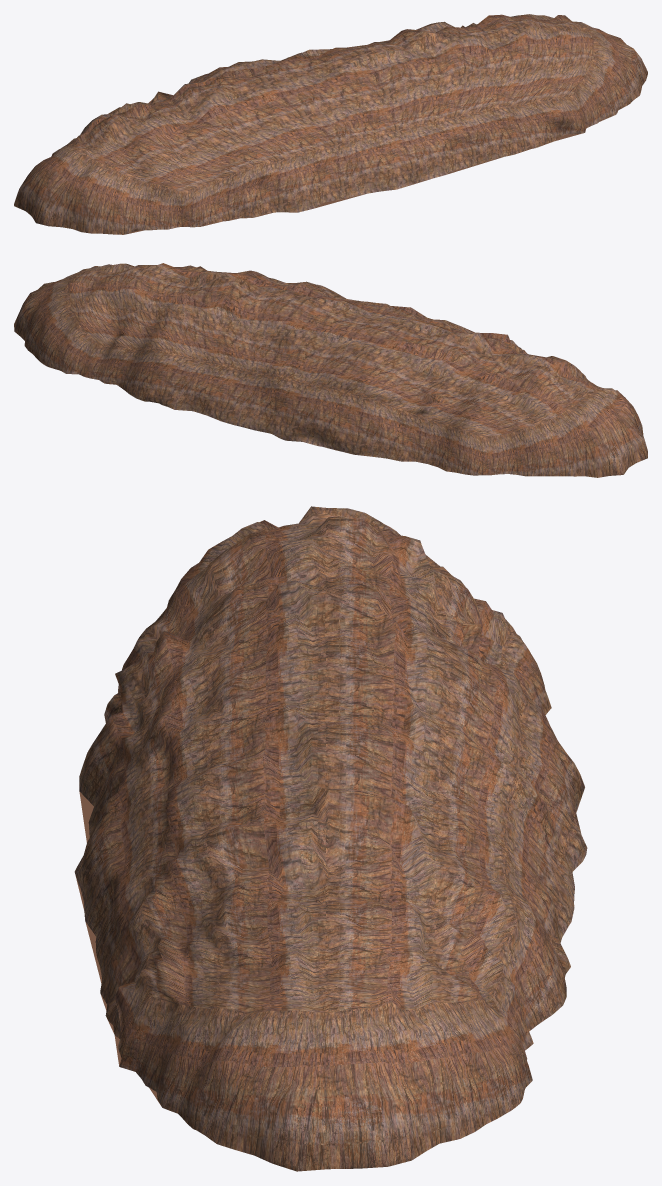
Rendered from mountain5.fbx.
3 renders of one model, top to bottom at view 1: azimuth 30°, elevation 25°; view 2: azimuth 150°, elevation 25°; view 3: azimuth 270°, elevation 25°, orthographic. The views are drawn at different scales.
Parts seen in each view (by area): view 1: mountain; view 2: mountain; view 3: mountain.
Part boxes in pixels (bbox=[...]): mountain: bbox=[14, 14, 647, 234]; mountain: bbox=[14, 263, 647, 477]; mountain: bbox=[74, 506, 587, 1171].
Size of the model in its own units: 398 by 54.44 by 144.
